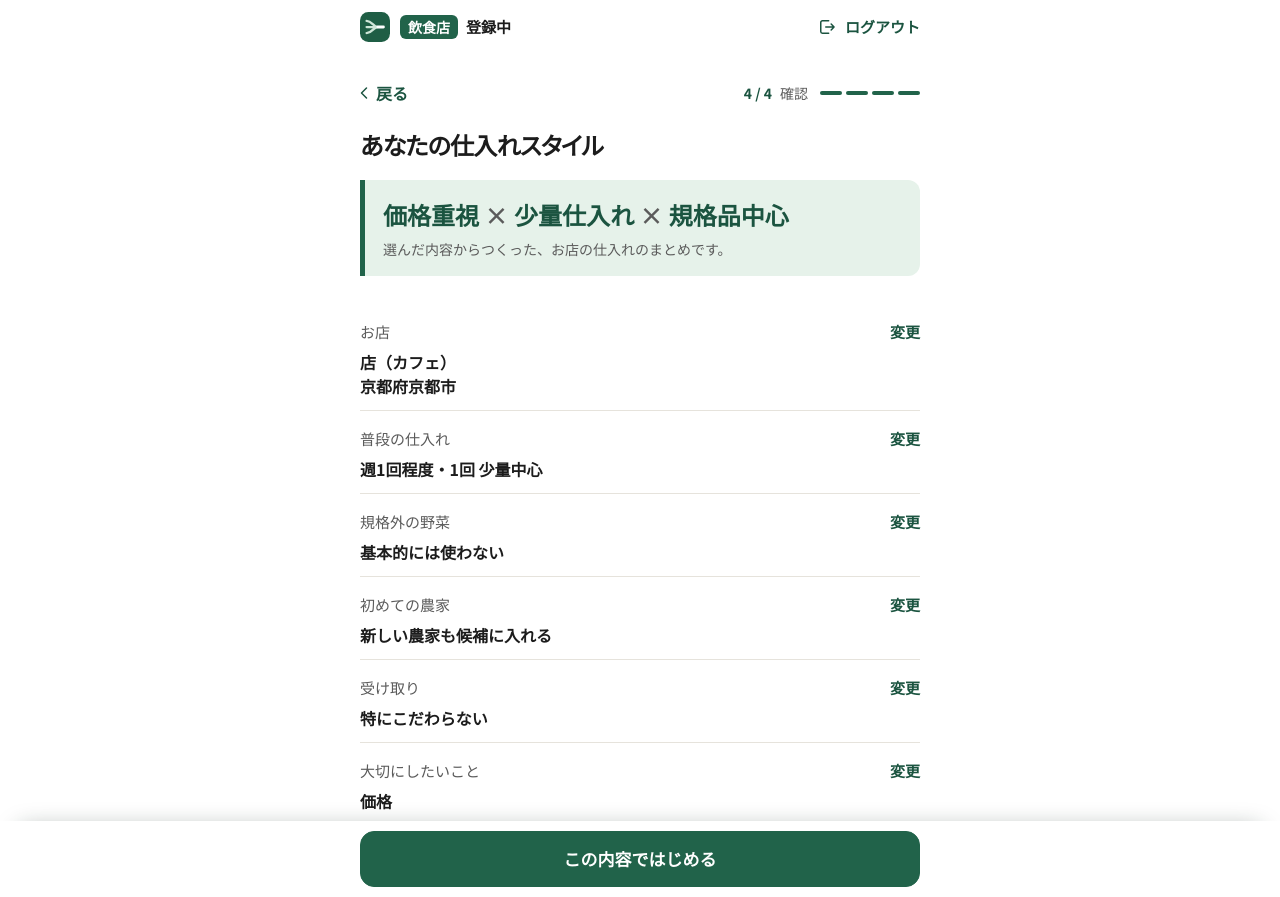
Scenario: 飲食店の初回登録（4 STEP） › 通信できなかったときは、確認画面にとどまって知らせる
The image size is (1280, 897).
Step 1. Click the submit button → x=640, y=859, box [360,831,920,887]
(page scrolled)
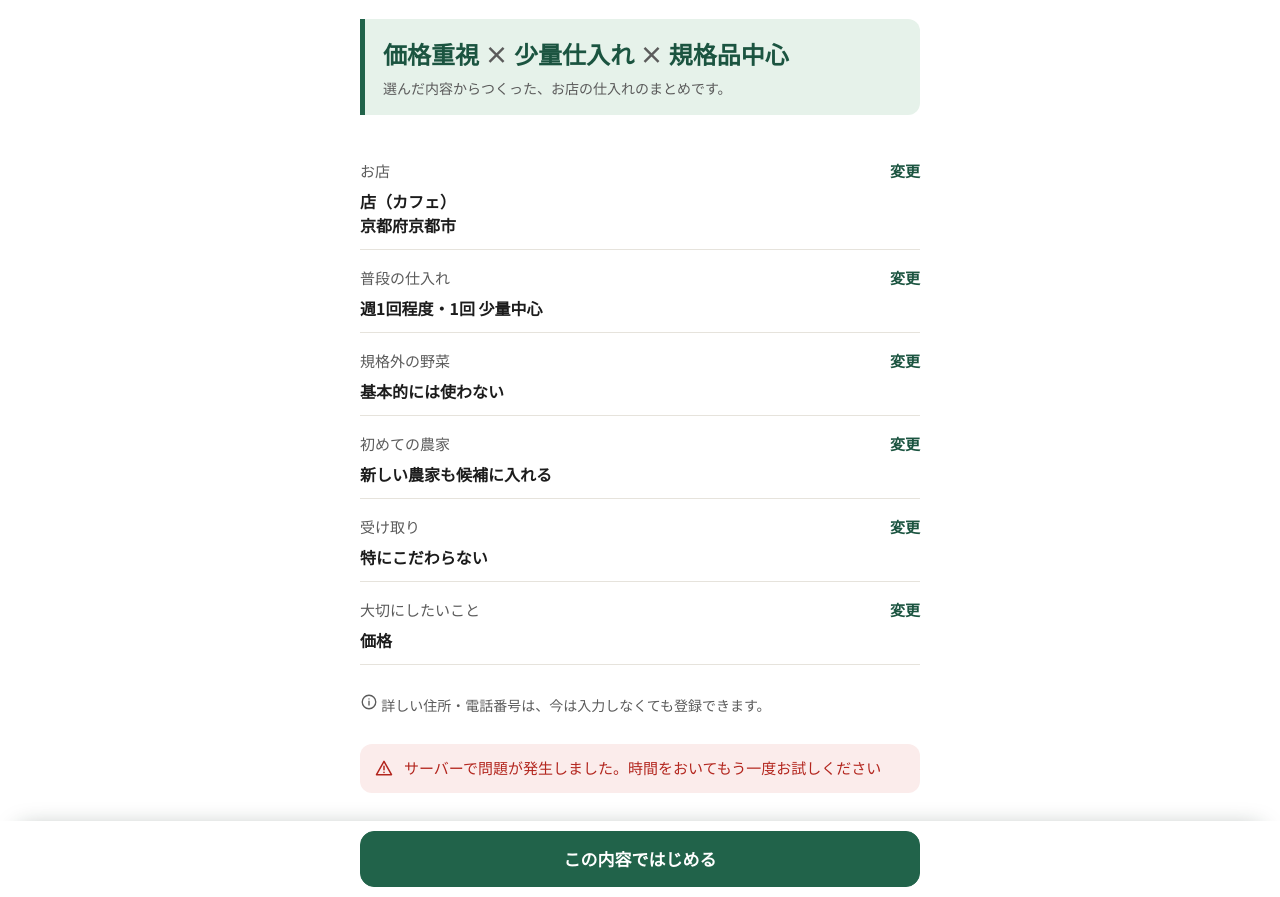
expect the message with class "bad" shows "サーバーで問題が発生しました": met, box [404,757,881,778]
